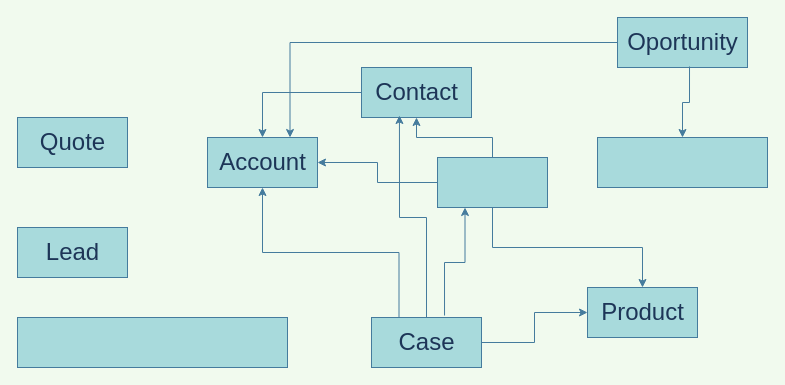
Image size: 785x385. Some labels were removed from this diagram. Each missing label, with the centre of its shape:
"Asset" goes at (x=492, y=182).
"KnowledgeArticleVersion" goes at (x=152, y=342).
"PriceBook2" goes at (x=682, y=162).
